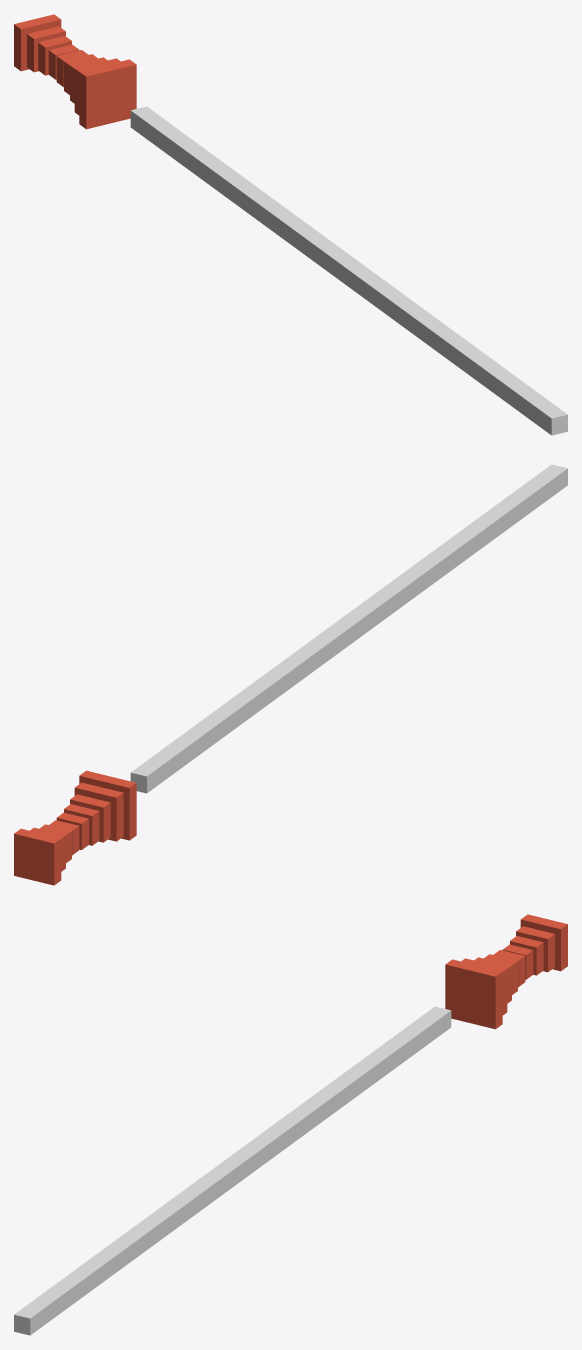
File: Cubism_smooth.fbx
The picture shows the model from 3 angles, top to bottom: view 1: azimuth 30°, elevation 25°; view 2: azimuth 150°, elevation 25°; view 3: azimuth 330°, elevation 25°; orthographic projection.
Visible parts, largest first — view 1: Blade.001, 1.001; view 2: Blade.001, 1.001; view 3: Blade.001, 1.001.
Boxes of the visible parts, x1,y1,x2,y2 form: Blade.001: [130, 106, 567, 435]; 1.001: [14, 14, 136, 129]; Blade.001: [130, 464, 567, 793]; 1.001: [14, 770, 136, 885]; Blade.001: [14, 1006, 451, 1335]; 1.001: [445, 914, 567, 1029].
Bounding box in the file's own units: 6.6 × 6.6 × 120.
